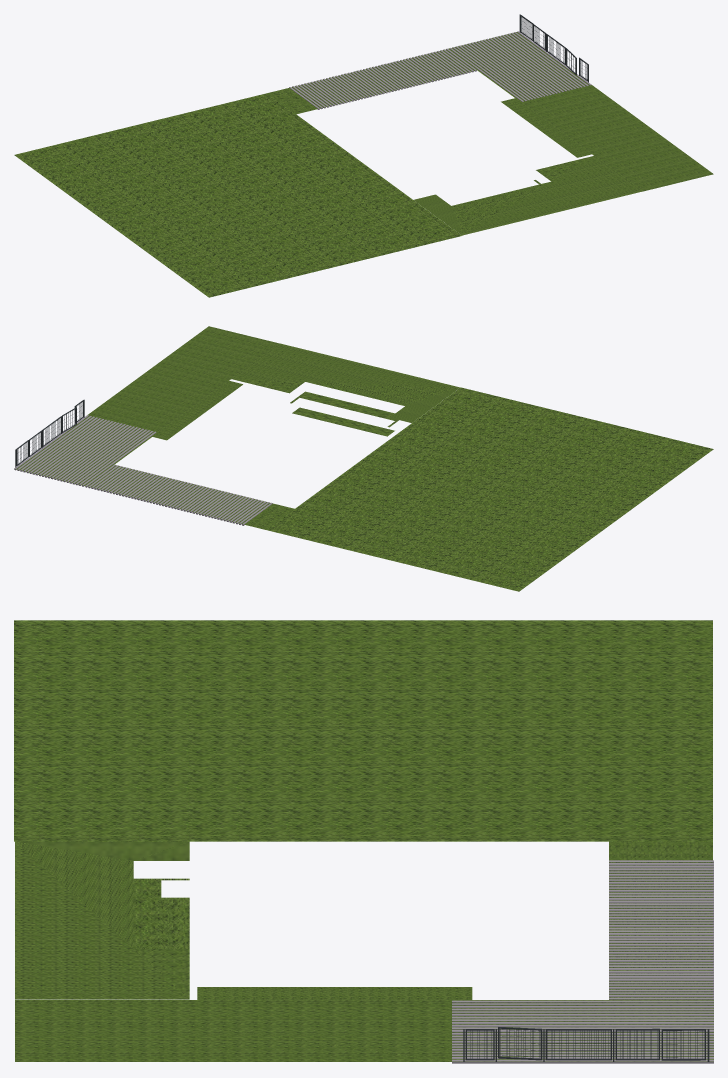
File: Garten_Zaun_Rasen.glb
3 renders of one model, top to bottom at view 1: azimuth 30°, elevation 25°; view 2: azimuth 150°, elevation 25°; view 3: azimuth 270°, elevation 25°, orthographic. The views are drawn at different scales.
Visible parts, largest first — view 1: GartenRasen.010, GartenRasen.006, GartenRasen.Süd.Orig.002, Rasenstein.001, Rasenstein.003, GartenRasen.007, GartenRasen.008, GartenRasen.009; view 2: GartenRasen.010, GartenRasen.Süd.Orig.002, GartenRasen.006, Rasenstein.001, Rasenstein.003, GartenRasen.007, GartenRasen.008, GartenRasen.009; view 3: GartenRasen.010, GartenRasen.006, GartenRasen.Süd.Orig.002, Rasenstein.001, Rasenstein.003, GartenRasen.007, GartenRasen.008, GartenRasen.009.
Part boxes in pixels (<box>): GartenRasen.010: <box>14,93,461,297</box>; GartenRasen.006: <box>521,85,713,191</box>; GartenRasen.Süd.Orig.002: <box>414,156,642,235</box>; Rasenstein.001: <box>449,31,591,101</box>; Rasenstein.003: <box>289,48,476,109</box>; GartenRasen.007: <box>267,49,474,114</box>; GartenRasen.008: <box>448,32,589,102</box>; GartenRasen.009: <box>501,98,591,157</box>; GartenRasen.010: <box>266,387,713,591</box>; GartenRasen.Süd.Orig.002: <box>231,343,460,436</box>; GartenRasen.006: <box>88,326,279,432</box>; Rasenstein.001: <box>14,415,156,486</box>; Rasenstein.003: <box>85,464,272,525</box>; GartenRasen.007: <box>87,465,294,529</box>; GartenRasen.008: <box>16,416,157,485</box>; GartenRasen.009: <box>152,381,242,440</box>; GartenRasen.010: <box>14,620,712,841</box>; GartenRasen.006: <box>15,1000,451,1061</box>; GartenRasen.Süd.Orig.002: <box>15,841,189,999</box>; Rasenstein.001: <box>452,1000,713,1063</box>; Rasenstein.003: <box>609,860,713,999</box>; GartenRasen.007: <box>609,841,712,999</box>; GartenRasen.008: <box>452,1000,713,1061</box>; GartenRasen.009: <box>197,987,472,999</box>.
Size of the model in its own units: 29.93 by 2.12 by 20.03.
Materials: 8 (2 with a texture image).
